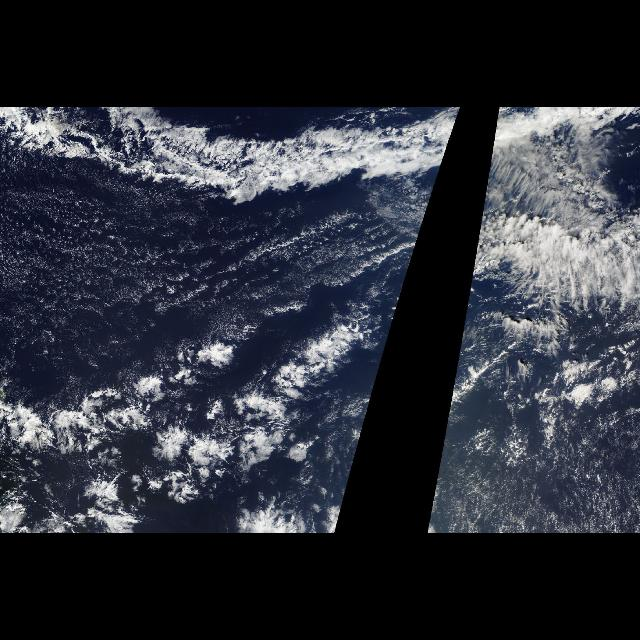Fish: (0, 314, 388, 532), (4, 108, 462, 206), (482, 108, 634, 206)
Flower: (171, 348, 297, 500)
Gravel: (466, 322, 640, 442)
Sugar: (0, 173, 396, 357), (442, 347, 640, 533)
